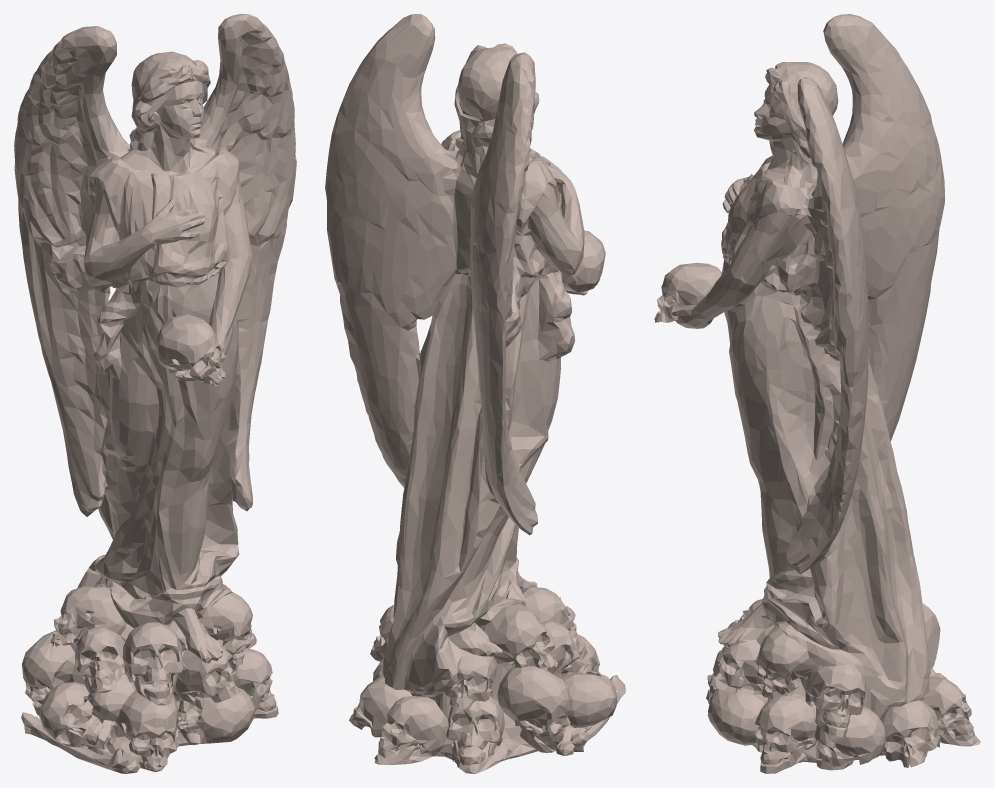
File: statue.glb
3 views of the same model, side by side, from view 1: azimuth 30°, elevation 25°; view 2: azimuth 150°, elevation 25°; view 3: azimuth 270°, elevation 25° (orthographic). The views are drawn at different scales.
Visible parts, largest first — view 1: Uploads Files 304821 Angel1; view 2: Uploads Files 304821 Angel1; view 3: Uploads Files 304821 Angel1.
Boxes of the visible parts, x1,y1,x2,y2 form: Uploads Files 304821 Angel1: (14,14,296,773); Uploads Files 304821 Angel1: (325,14,625,773); Uploads Files 304821 Angel1: (654,14,980,773).
Size of the model in its own units: 1.18 by 2.87 by 1.23.
